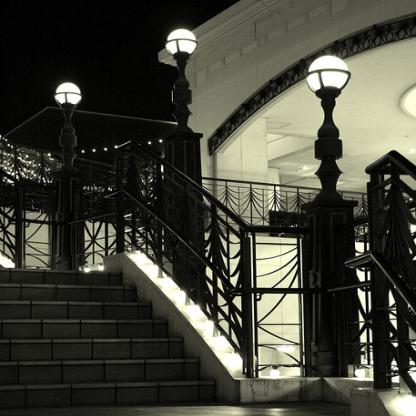stairs: (7, 290, 139, 410)
